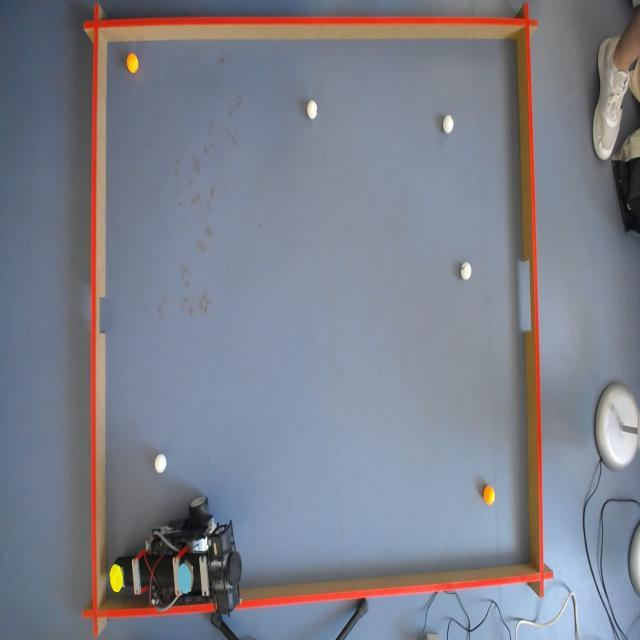orange: (127, 53, 142, 73), (483, 484, 497, 505)
robot: (109, 496, 244, 625)
robot-front: (108, 563, 125, 593)
robot-rear: (176, 560, 193, 596)
white: (154, 452, 168, 474), (460, 260, 473, 282), (442, 115, 454, 134), (306, 98, 317, 118)
